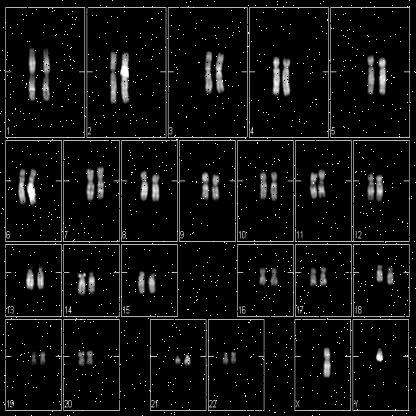1: (42, 47, 55, 104), (28, 47, 36, 103)
10: (257, 170, 268, 201), (269, 170, 278, 204)
11: (308, 169, 317, 201), (318, 170, 327, 202)
12: (374, 170, 384, 206), (365, 171, 374, 202)
13: (25, 268, 35, 292), (36, 266, 44, 292)
14: (76, 270, 88, 296), (88, 270, 96, 298)
15: (146, 271, 158, 297), (138, 269, 146, 294)
16: (267, 265, 279, 287), (256, 266, 267, 286)
17: (319, 266, 329, 288), (309, 267, 317, 287)
18: (376, 262, 384, 286), (386, 265, 394, 287)
19: (38, 349, 46, 367), (30, 348, 36, 368)
2: (107, 50, 119, 106), (120, 50, 132, 106)
20: (84, 348, 95, 368), (76, 348, 85, 368)
21: (182, 354, 192, 368), (172, 352, 182, 365)
22: (228, 348, 236, 368), (221, 352, 229, 366)
3: (214, 52, 228, 98), (204, 50, 214, 96)
4: (281, 57, 292, 98), (271, 56, 281, 96)
5: (376, 57, 389, 96), (366, 53, 376, 97)
6: (26, 165, 38, 209), (16, 166, 26, 205)
7: (94, 165, 107, 201), (85, 166, 95, 202)
8: (150, 172, 163, 205), (138, 170, 150, 203)
9: (210, 172, 222, 202), (200, 171, 210, 202)
X: (321, 344, 333, 380)
Y: (375, 345, 384, 365)
